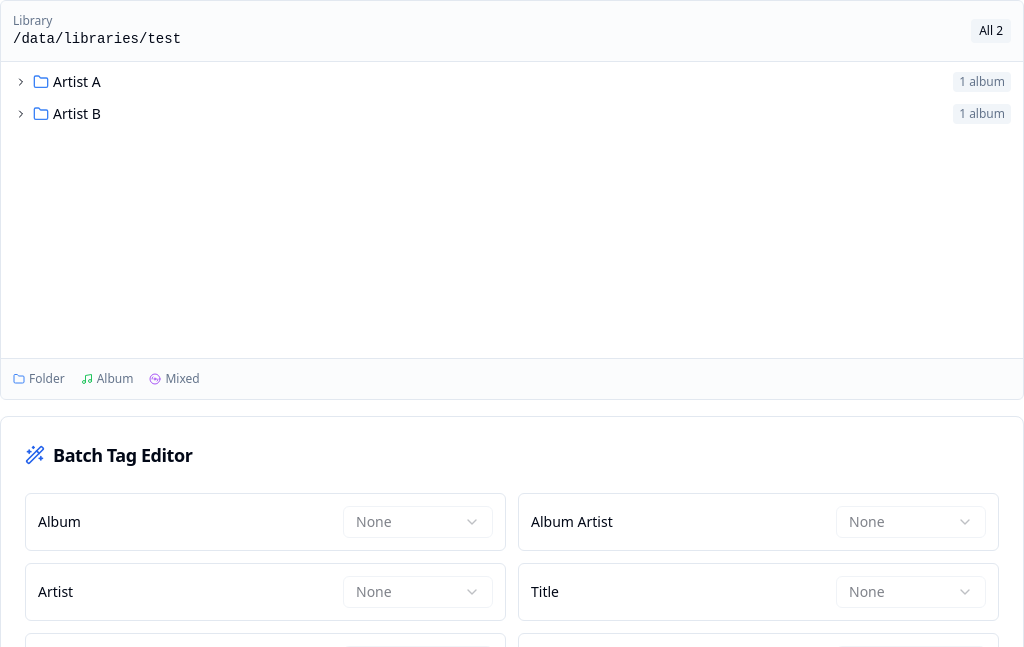
Test case: BatchEditTab › seeds the batch editor with a distinct value as a fixed value
The width and height of the screenshot is (1024, 647).
Click the button "All 2" at (991,31), box [971,19,1011,43]
(page scrolled)
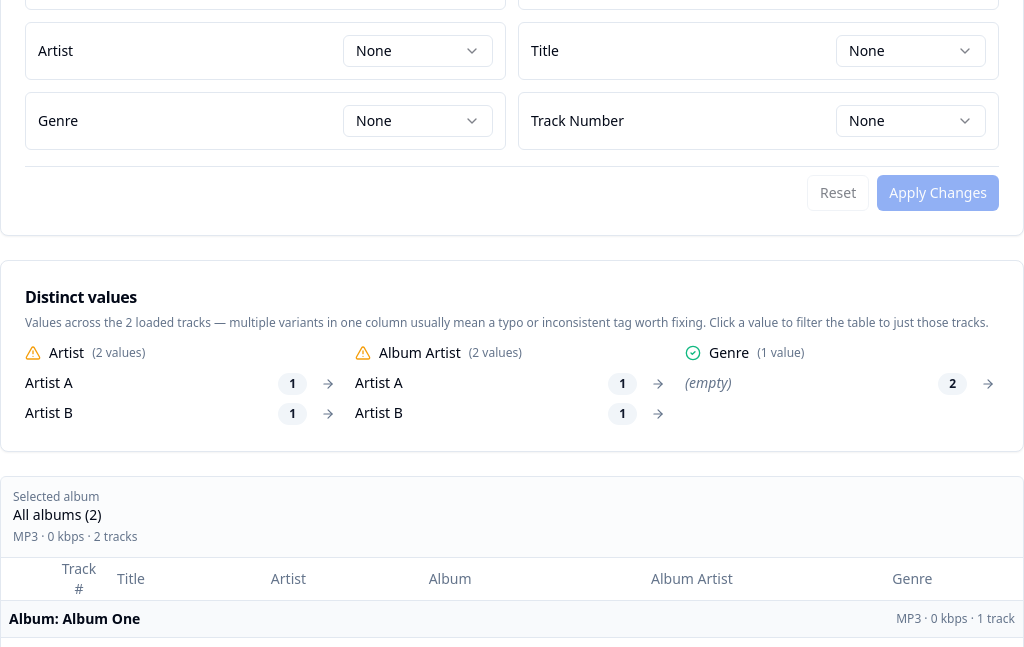
Use "Artist A" (one of two distinct artists) as a fixed-value template.
Click the button named "Use \"Artist A\" as the fixed Artist value" at (328,384), box [317,373,339,395]
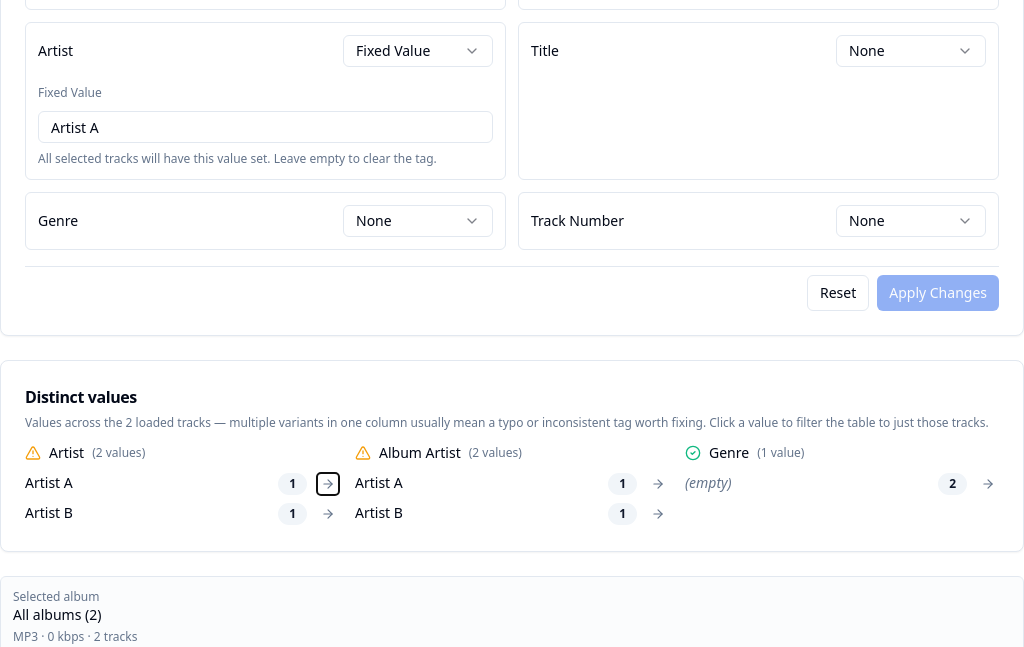
Result: the field labelled "Fixed Value" holds "Artist A" at [38,111,493,143]
